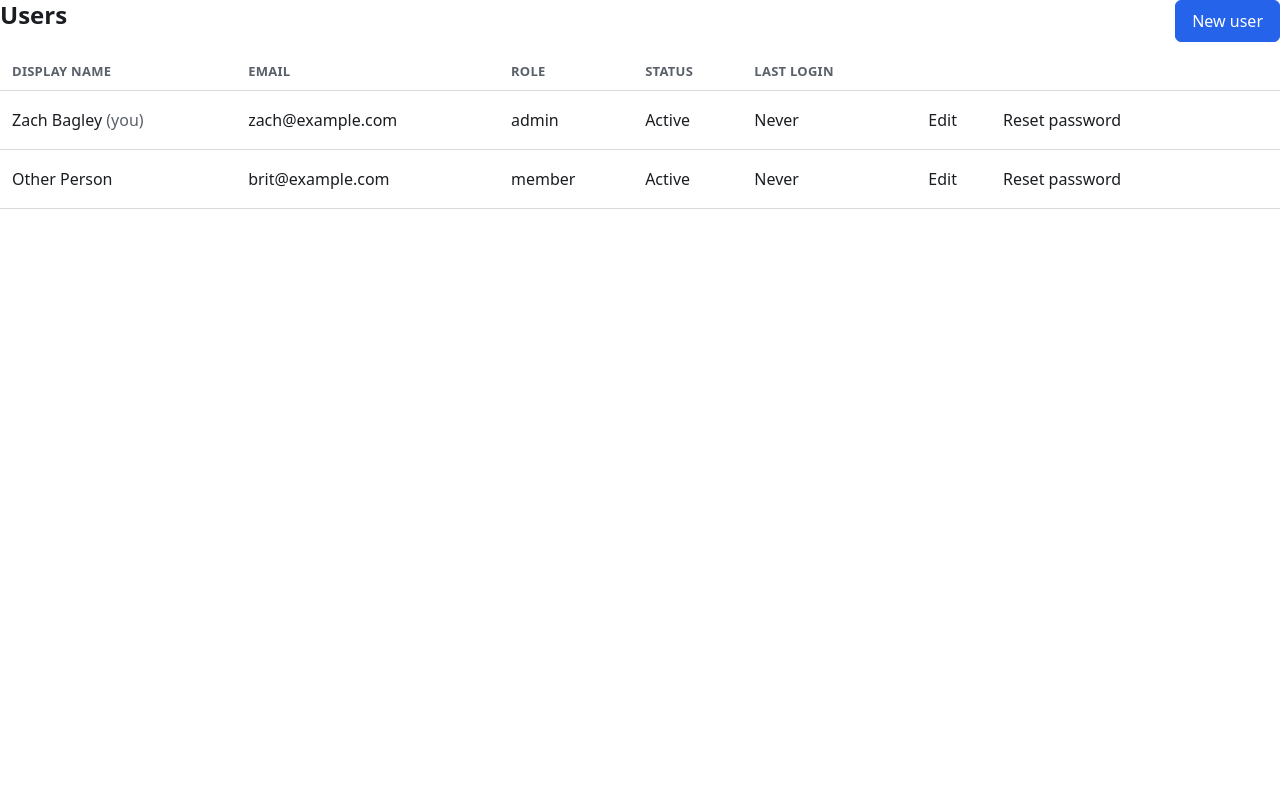
UsersPage › leaves role and active enabled when editing a different user
This screenshot has width=1280, height=800.
expect the text "Other Person" is shown: met, box [0,149,236,208]
Click the button "Edit" in the row of "Other Person" at (943, 178), box [911,158,974,200]
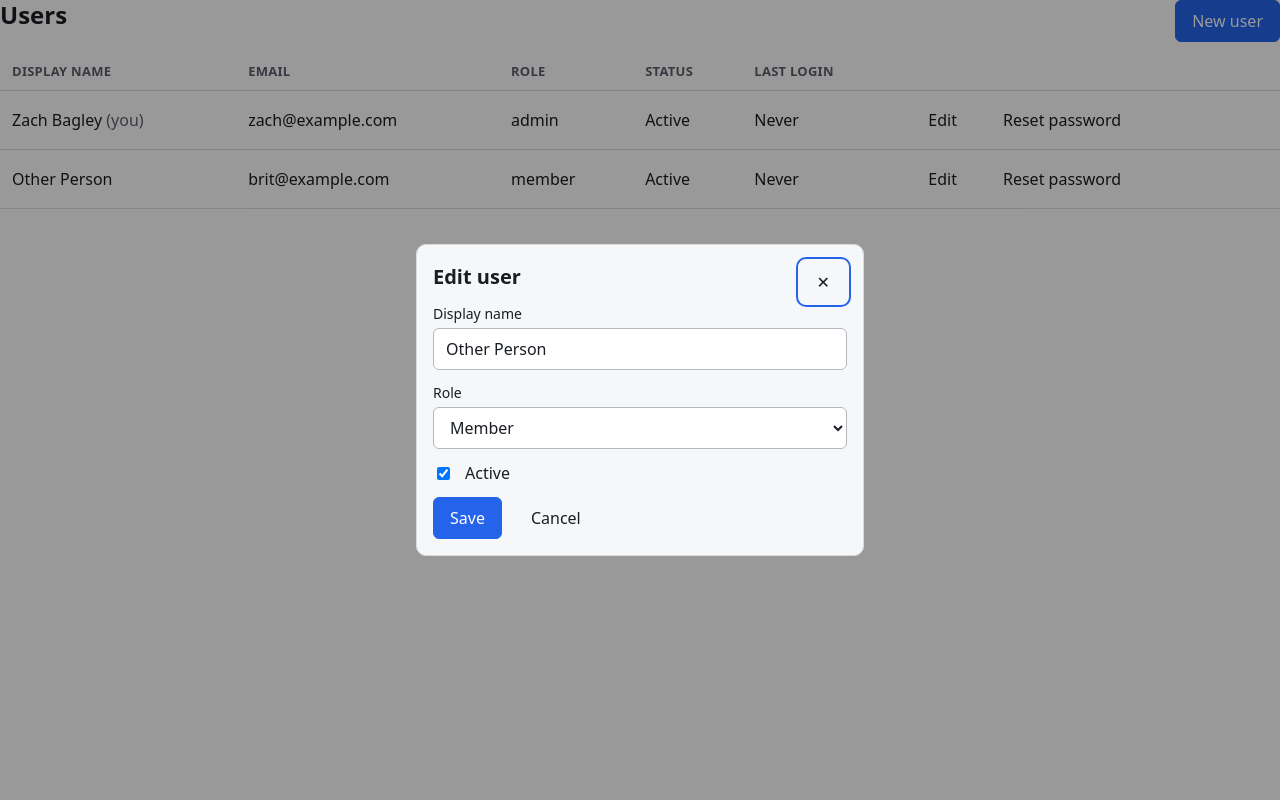
expect the dropdown labelled "Role" is enabled: met, box [433,407,847,449]
expect the checkbox is enabled: met, box [437,466,450,480]
